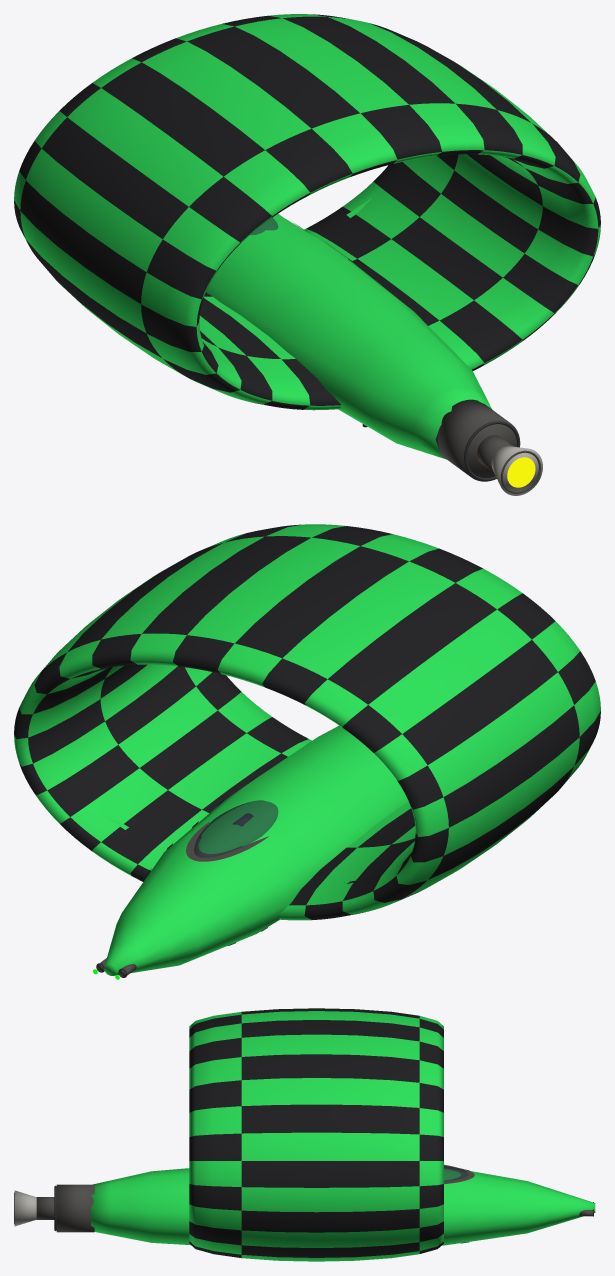
The model's file is Ship_Hooper_900396.glb.
3 views of the same model, one above another, from view 1: azimuth 30°, elevation 25°; view 2: azimuth 150°, elevation 25°; view 3: azimuth 270°, elevation 25° (orthographic). The views are drawn at different scales.
Parts seen in each view (by area): view 1: Hoop_MainStructuralRing_YAxisHole_ElongatedY_LowerMidpointAt, Fuselage_MainCenteredHull_CenterOfMassAtOrigin, EngineBlock_AftHullIntegratedMountPlate, EngineBell_Center_AftHullBurnishedNozzle, EngineEmitter; view 2: Hoop_MainStructuralRing_YAxisHole_ElongatedY_LowerMidpointAt, Fuselage_MainCenteredHull_CenterOfMassAtOrigin, CanopyGlass_LowForwardPodDome, CanopyFrame_LowInsetOvalRim; view 3: Hoop_MainStructuralRing_YAxisHole_ElongatedY_LowerMidpointAt, Fuselage_MainCenteredHull_CenterOfMassAtOrigin, EngineBlock_AftHullIntegratedMountPlate, EngineBell_Center_AftHullBurnishedNozzle, EngineThroat_Center_AftHullDarkSocket.
Boxes of the visible parts, bbox=[...] form: Hoop_MainStructuralRing_YAxisHole_ElongatedY_LowerMidpointAt: bbox=[14, 14, 600, 410]; Fuselage_MainCenteredHull_CenterOfMassAtOrigin: bbox=[206, 214, 492, 459]; EngineBlock_AftHullIntegratedMountPlate: bbox=[438, 399, 520, 481]; EngineBell_Center_AftHullBurnishedNozzle: bbox=[491, 446, 542, 495]; EngineEmitter: bbox=[507, 457, 535, 487]; Hoop_MainStructuralRing_YAxisHole_ElongatedY_LowerMidpointAt: bbox=[14, 524, 600, 920]; Fuselage_MainCenteredHull_CenterOfMassAtOrigin: bbox=[104, 725, 408, 975]; CanopyGlass_LowForwardPodDome: bbox=[194, 800, 278, 857]; CanopyFrame_LowInsetOvalRim: bbox=[186, 822, 268, 861]; Hoop_MainStructuralRing_YAxisHole_ElongatedY_LowerMidpointAt: bbox=[189, 1008, 443, 1261]; Fuselage_MainCenteredHull_CenterOfMassAtOrigin: bbox=[91, 1168, 595, 1245]; EngineBlock_AftHullIntegratedMountPlate: bbox=[56, 1184, 94, 1232]; EngineBell_Center_AftHullBurnishedNozzle: bbox=[14, 1190, 36, 1226]; EngineThroat_Center_AftHullDarkSocket: bbox=[36, 1197, 54, 1219].
Size of the model in its own units: 4.11 by 2.6 by 6.61.
